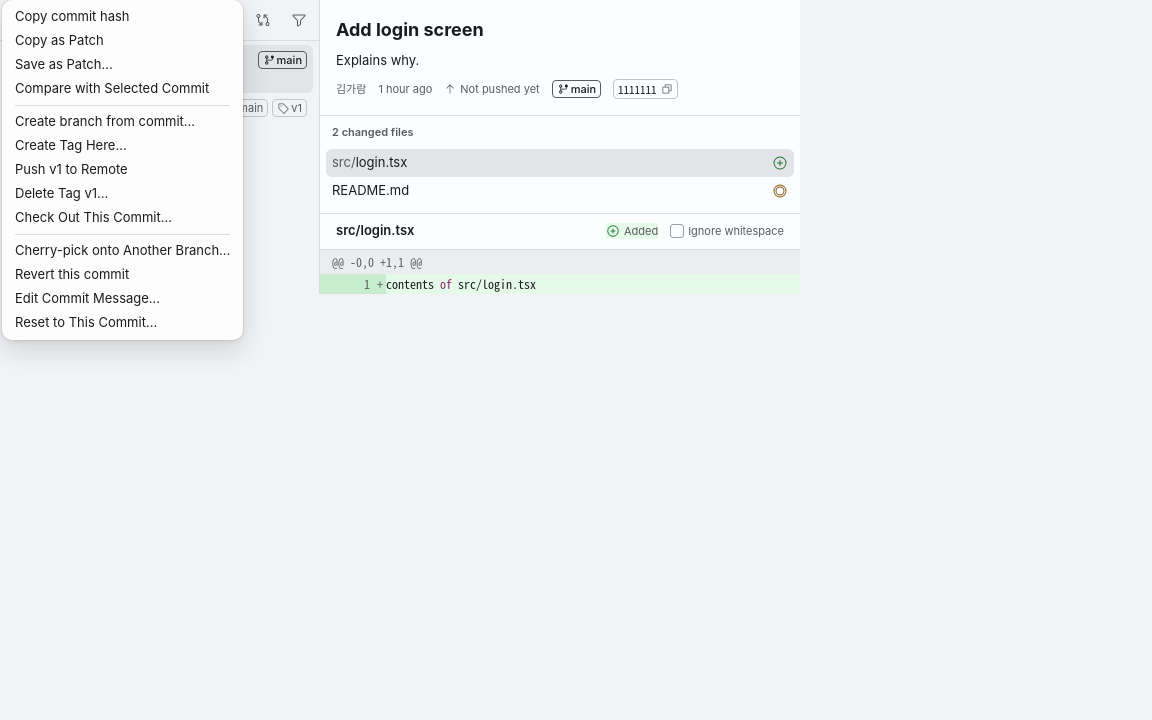
Test case: HistoryView › focuses the summary when an older commit's message finishes loading
Click the menu item "Edit Commit Message…". click: (88, 298)
box: [15,290,160,306]
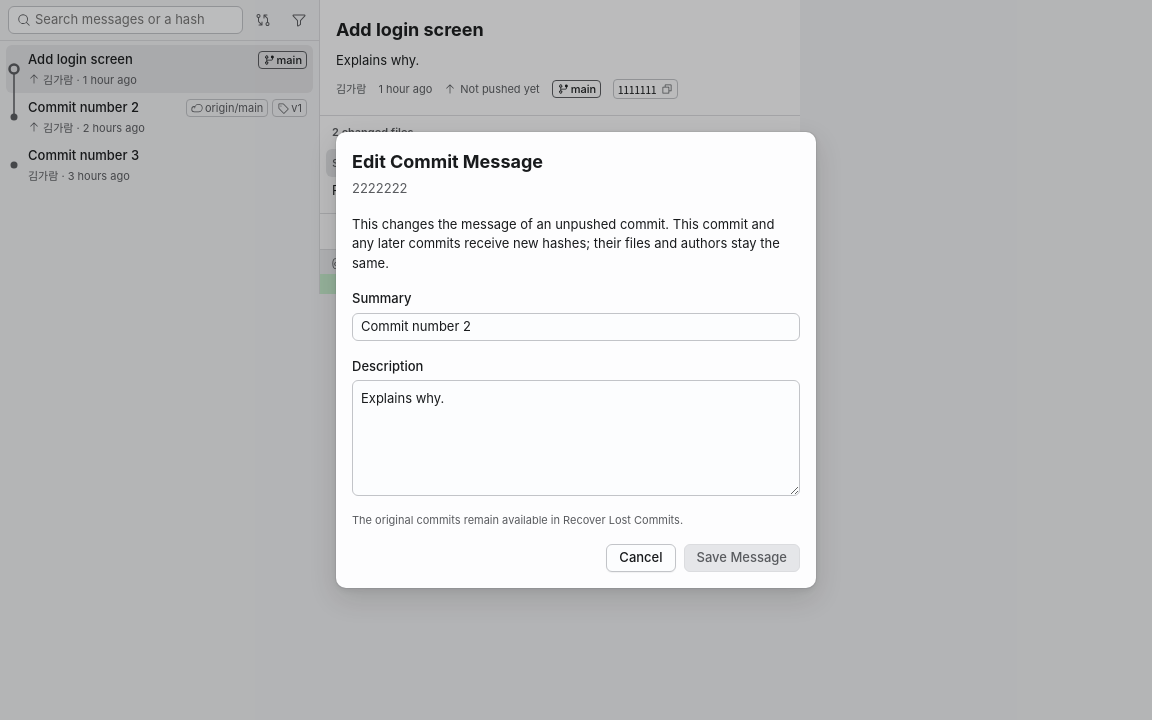
expect the button "Save Message" is disabled: met, box [684,544,800,572]
